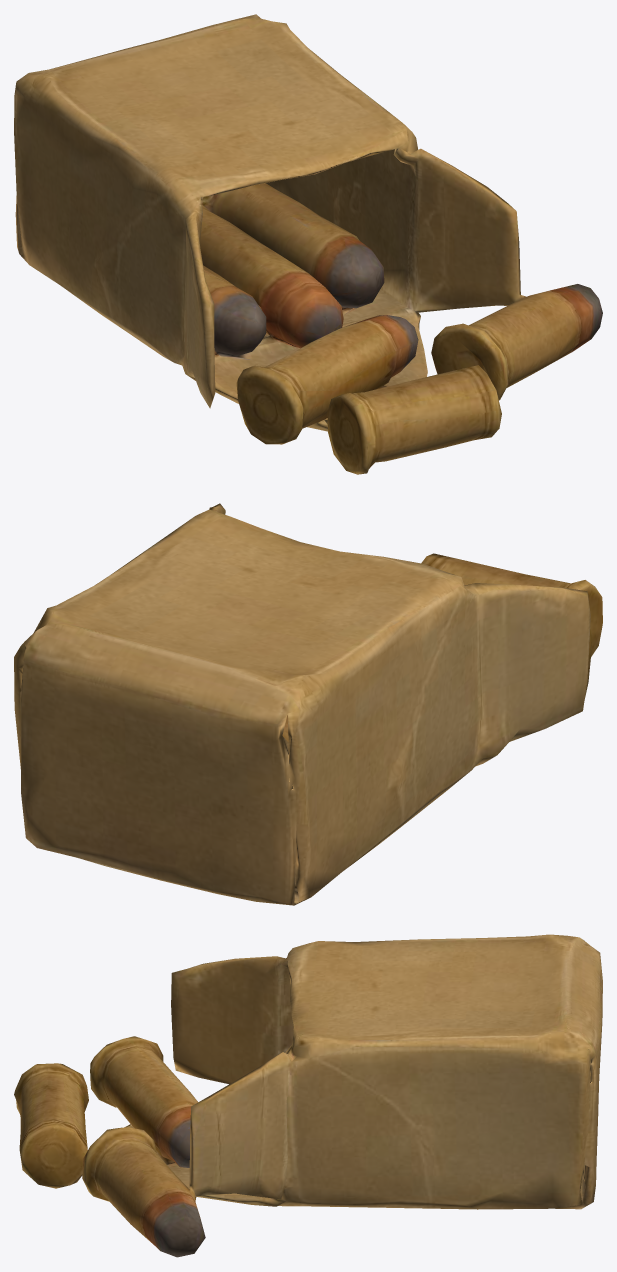
The model's file is cartridges.glb.
3 views of the same model, one above another, from view 1: azimuth 30°, elevation 25°; view 2: azimuth 150°, elevation 25°; view 3: azimuth 270°, elevation 25° (orthographic). The views are drawn at different scales.
Visible parts, largest first — view 1: Mesh_0; view 2: Mesh_0; view 3: Mesh_0.
Boxes of the visible parts, x1,y1,x2,y2 form: Mesh_0: [14, 14, 602, 474]; Mesh_0: [14, 503, 602, 905]; Mesh_0: [14, 934, 602, 1257].
Size of the model in its own units: 0.7156 by 0.355 by 1.
Materials: 1 (1 with a texture image).
